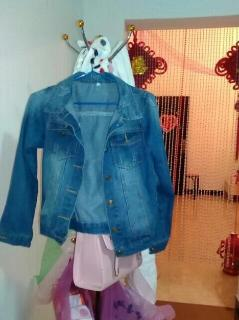long sleeve outwear: (0, 71, 176, 257)
